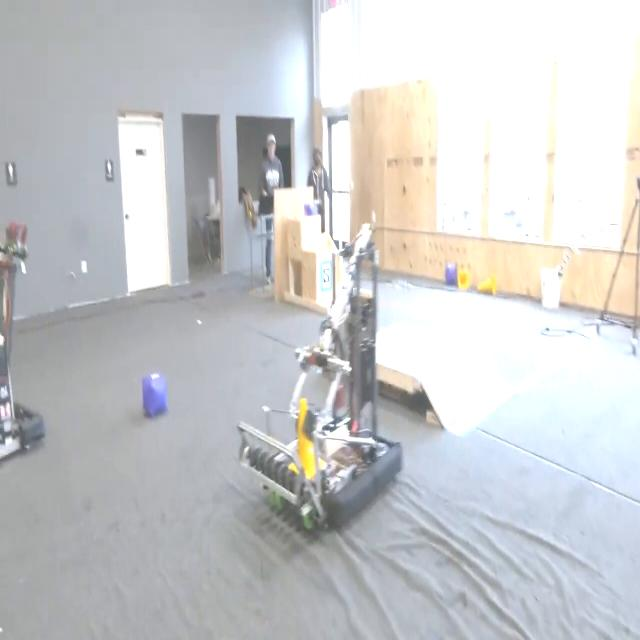frc_cone: (290, 397, 315, 490), (476, 263, 504, 299), (456, 264, 474, 290)
frc_cube: (137, 368, 167, 421), (442, 256, 456, 284)
